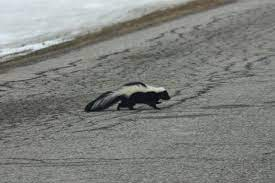skunk: (77, 80, 173, 110)
